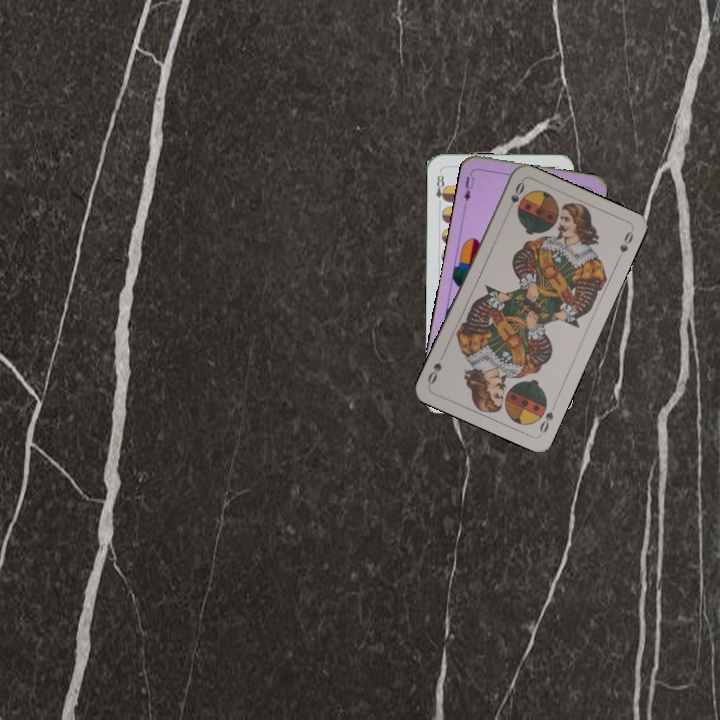E8: (432, 171, 449, 209)
EU: (460, 167, 477, 207)
SO: (504, 178, 527, 216), (535, 399, 558, 436)
